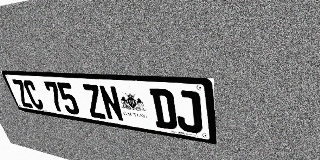5: (56, 82, 81, 115)
7: (42, 81, 67, 113)
C: (22, 80, 45, 110)
D: (149, 88, 178, 130)
J: (173, 90, 203, 134)
N: (98, 85, 125, 122)
Z: (81, 84, 107, 119), (11, 79, 34, 108)
